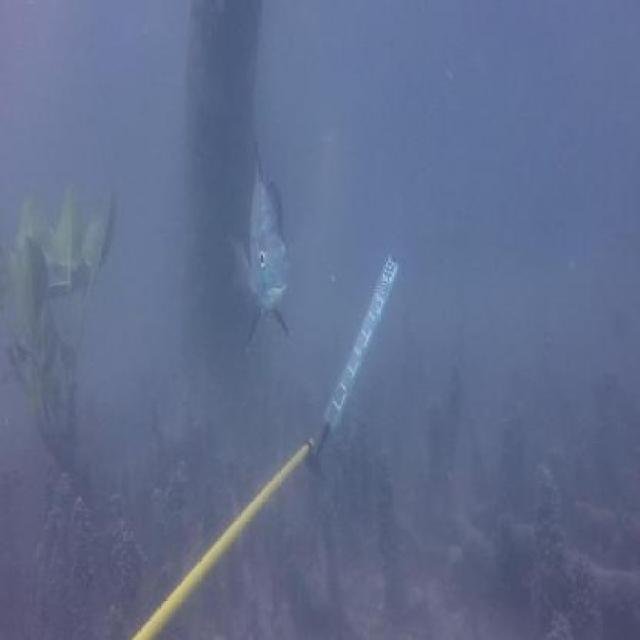acanthopagrus_palmaris: (222, 130, 298, 364)
